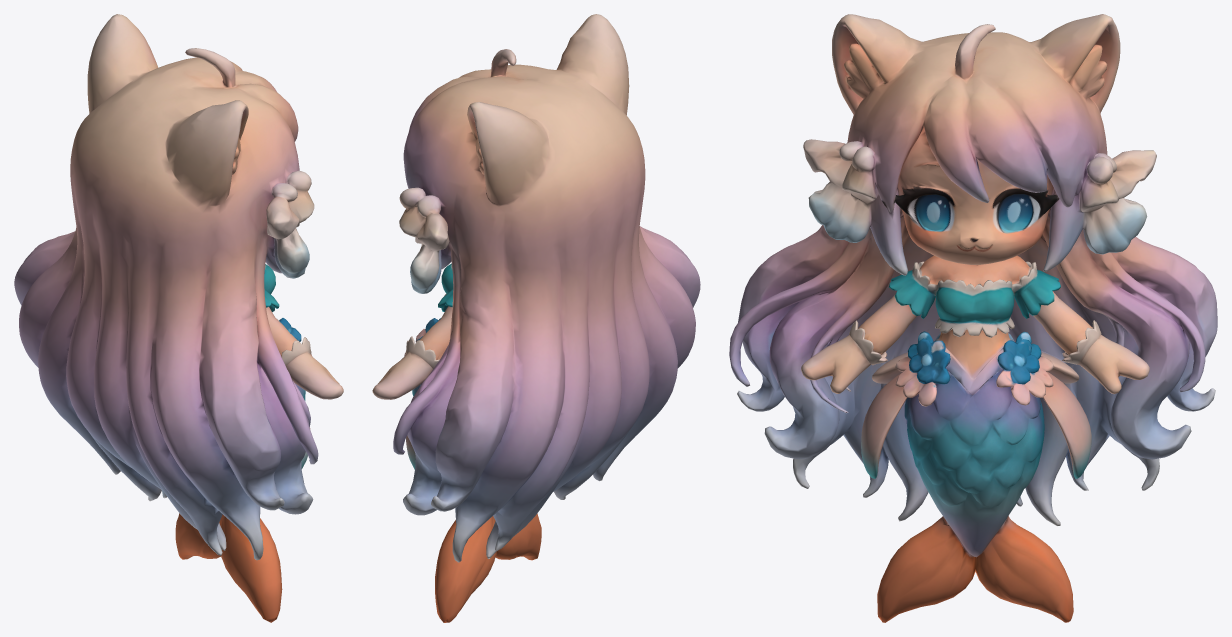
File: mermaid_apose.glb
3 renders of one model, left to right at view 1: azimuth 30°, elevation 25°; view 2: azimuth 150°, elevation 25°; view 3: azimuth 270°, elevation 25°, orthographic. The views are drawn at different scales.
Parts seen in each view (by area): view 1: tripo_node_0f9db5ee-c6b9-4a80-b43c-06081ba07093; view 2: tripo_node_0f9db5ee-c6b9-4a80-b43c-06081ba07093; view 3: tripo_node_0f9db5ee-c6b9-4a80-b43c-06081ba07093.
Boxes of the visible parts, x1,y1,x2,y2 form: tripo_node_0f9db5ee-c6b9-4a80-b43c-06081ba07093: (14,14,343,622); tripo_node_0f9db5ee-c6b9-4a80-b43c-06081ba07093: (372,14,700,622); tripo_node_0f9db5ee-c6b9-4a80-b43c-06081ba07093: (729,14,1217,622).
Size of the model in its own units: 0.398 by 0.9804 by 0.7433.
1 material, 1 textured.
